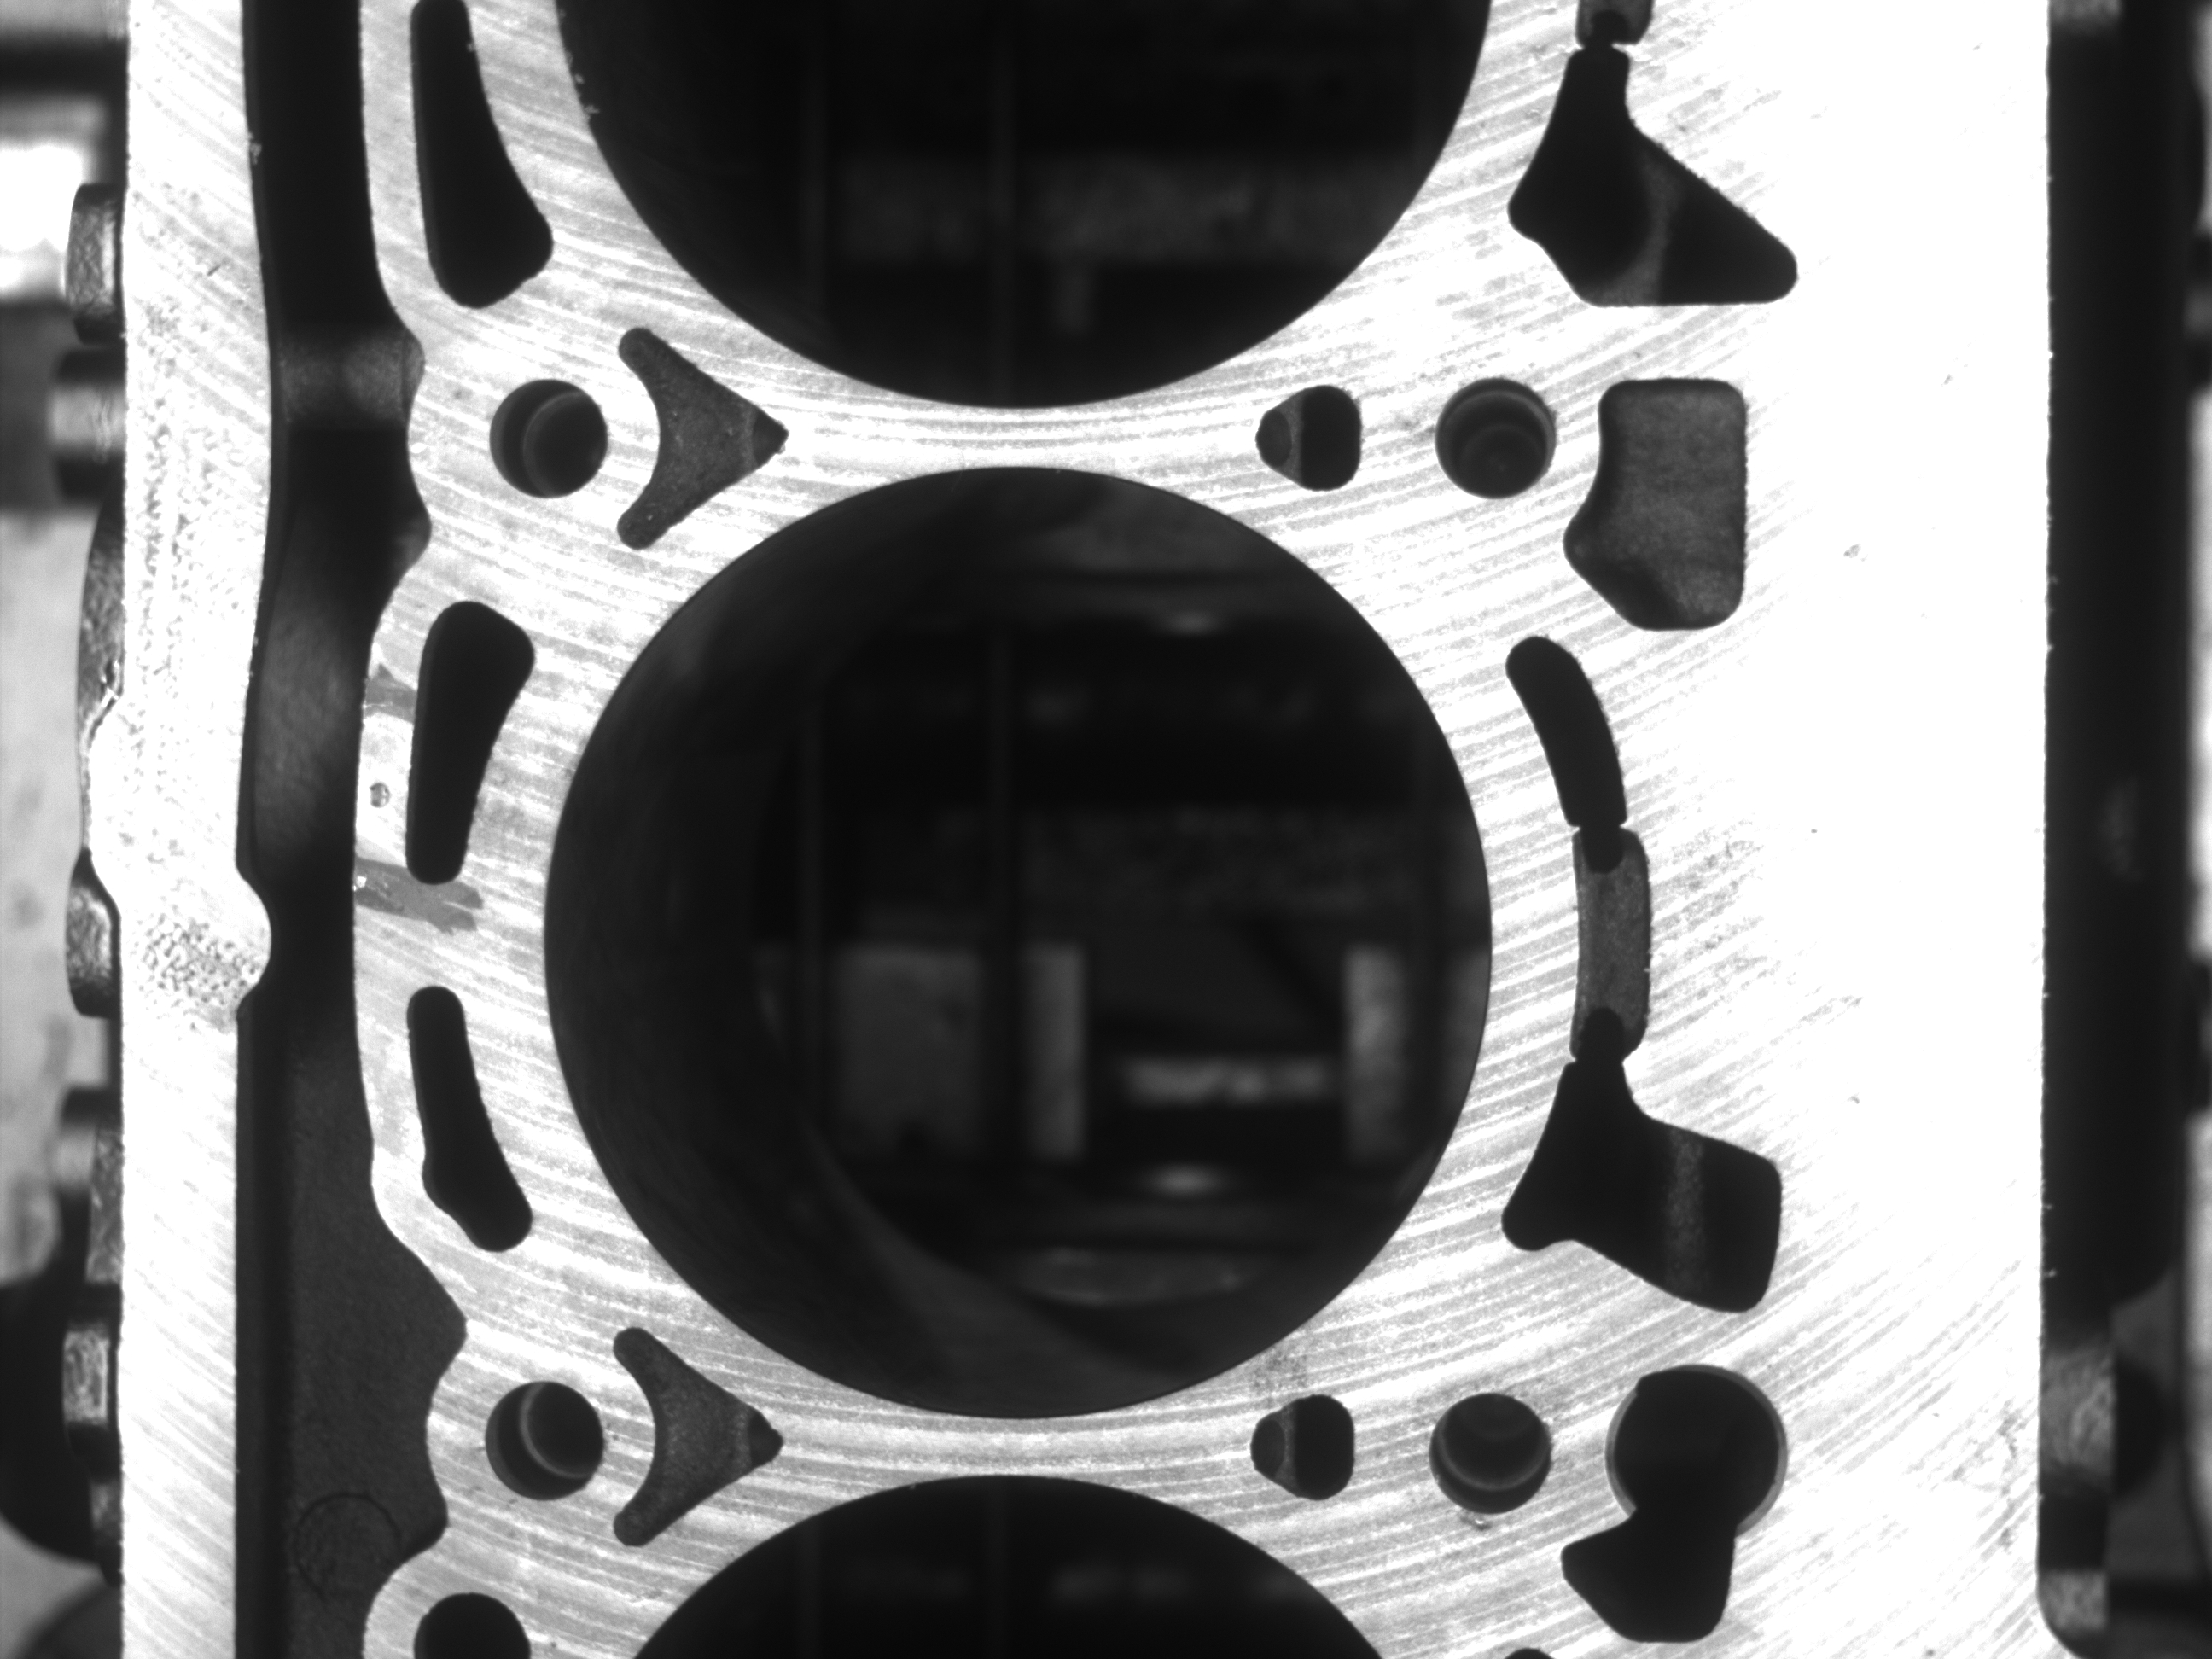crackle: (362, 765, 399, 819)
